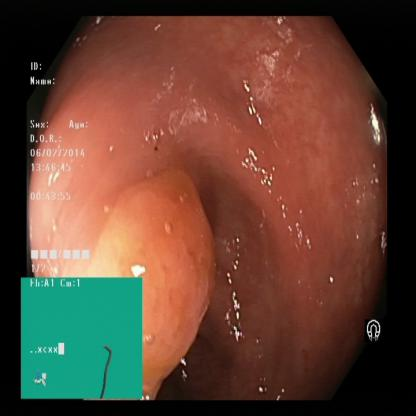Labels: (28, 52, 112, 278), (21, 278, 144, 401), (365, 310, 386, 345)
Polyps: (118, 197, 236, 377)
